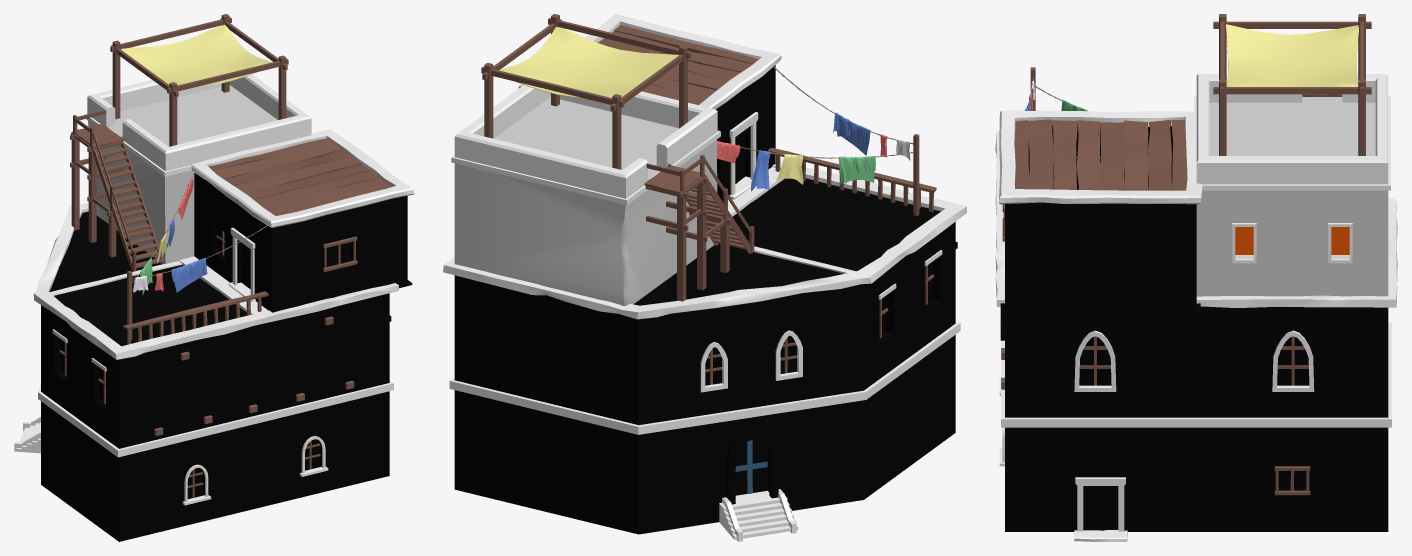
Rendered from civilian_house_08.FBX.
The picture shows the model from 3 angles, left to right: view 1: azimuth 30°, elevation 25°; view 2: azimuth 150°, elevation 25°; view 3: azimuth 270°, elevation 25°; orthographic projection. The views are drawn at different scales.
Visible parts, largest first — view 1: civilian_house_08_LOD0; view 2: civilian_house_08_LOD0; view 3: civilian_house_08_LOD0.
Part boxes in pixels (x1=…): civilian_house_08_LOD0: x1=14, y1=14, x2=414, y2=541; civilian_house_08_LOD0: x1=443, y1=14, x2=966, y2=541; civilian_house_08_LOD0: x1=995, y1=14, x2=1397, y2=541.
Size of what is drawn, in the model's own units: 1667 by 1910 by 1575.
